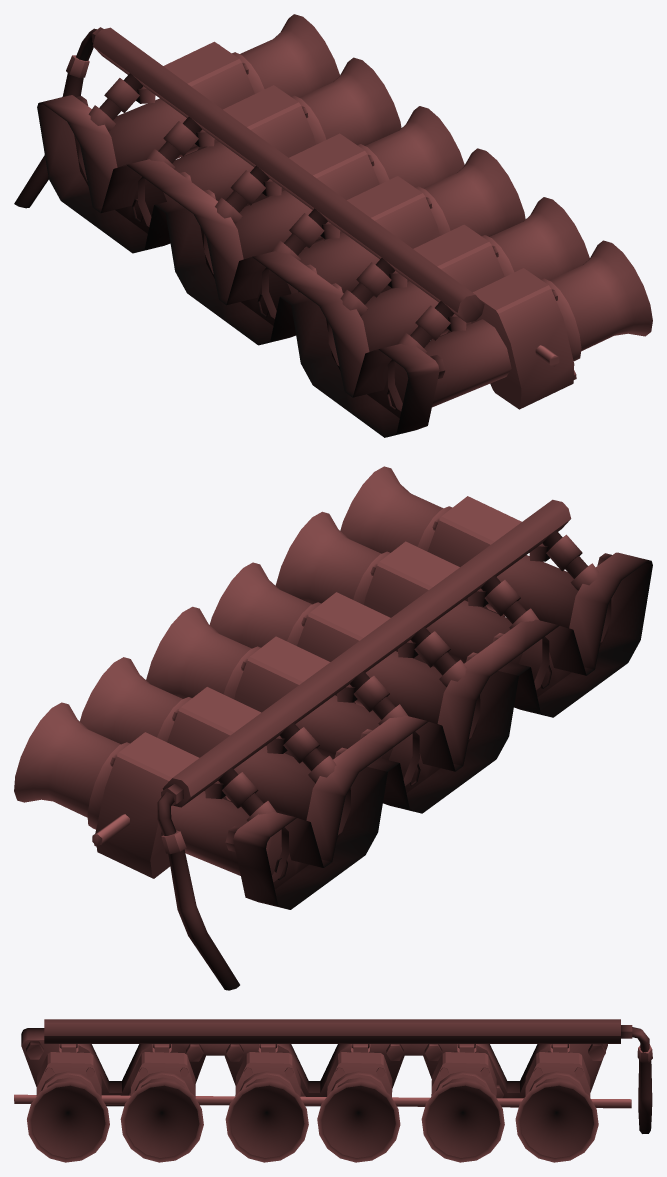
The model's file is JZ_IntakeManifold2.fbx.
The picture shows the model from 3 angles, top to bottom: view 1: azimuth 30°, elevation 25°; view 2: azimuth 150°, elevation 25°; view 3: azimuth 270°, elevation 25°; orthographic projection. The views are drawn at different scales.
Visible parts, largest first — view 1: IntakeManifold2; view 2: IntakeManifold2; view 3: IntakeManifold2.
Boxes of the visible parts, x1=… form: IntakeManifold2: x1=14, y1=14, x2=652, y2=437; IntakeManifold2: x1=14, y1=466, x2=652, y2=990; IntakeManifold2: x1=14, y1=1019, x2=652, y2=1162.
Size of the model in its own units: 27.94 by 18.26 by 76.39.
